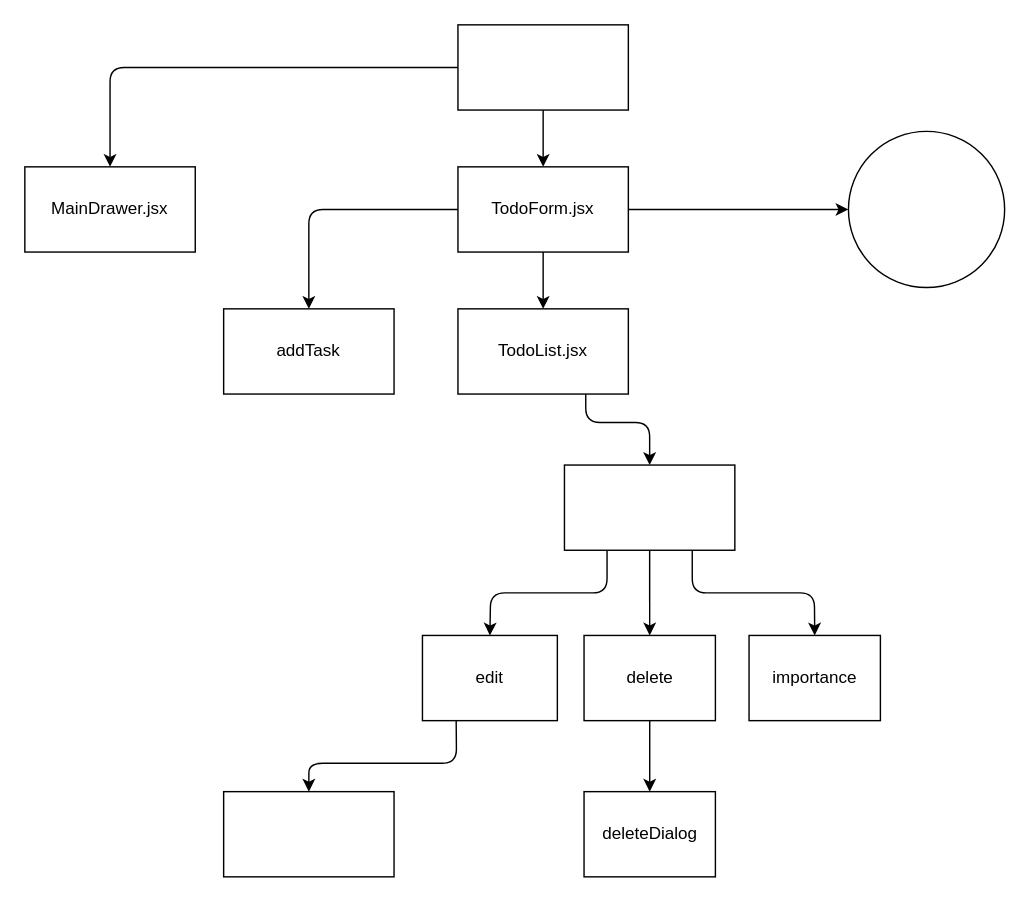
Image size: 1030x902. Some labels were removed from this diagram. Each missing label, with the centre of its shape:
App.jsx: the point at 542,66
RightDrawer.jsx: the point at 308,833
TodoItem: the point at 649,507
toggleCheck editTask removeTask localStorage: the point at 926,209
